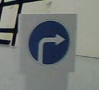right: (28, 20, 71, 65)
